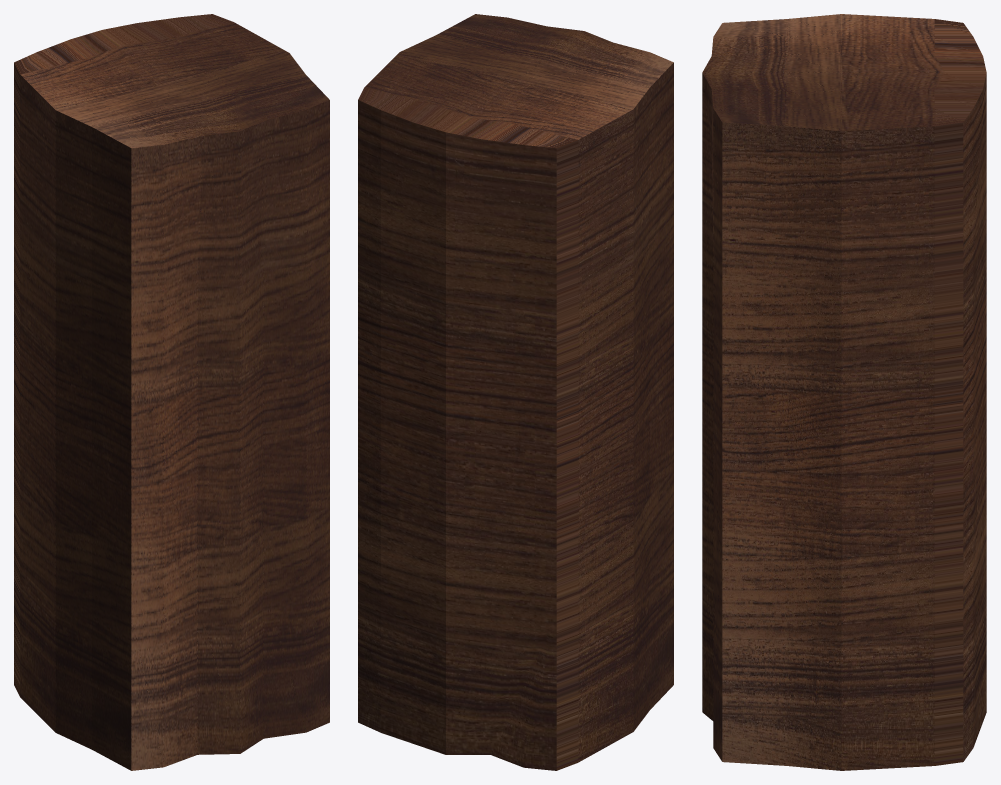
The model's file is WoodPillarBarrier.fbx.
3 renders of one model, left to right at view 1: azimuth 30°, elevation 25°; view 2: azimuth 150°, elevation 25°; view 3: azimuth 270°, elevation 25°, orthographic. The views are drawn at different scales.
Parts seen in each view (by area): view 1: WoodPillarBarrier.001; view 2: WoodPillarBarrier.001; view 3: WoodPillarBarrier.001.
Part boxes in pixels (x1,y1,x2,y2): WoodPillarBarrier.001: (14, 14, 329, 770); WoodPillarBarrier.001: (358, 14, 673, 770); WoodPillarBarrier.001: (702, 14, 986, 770).
Size of the model in its own units: 29.48 by 74.97 by 30.21.
